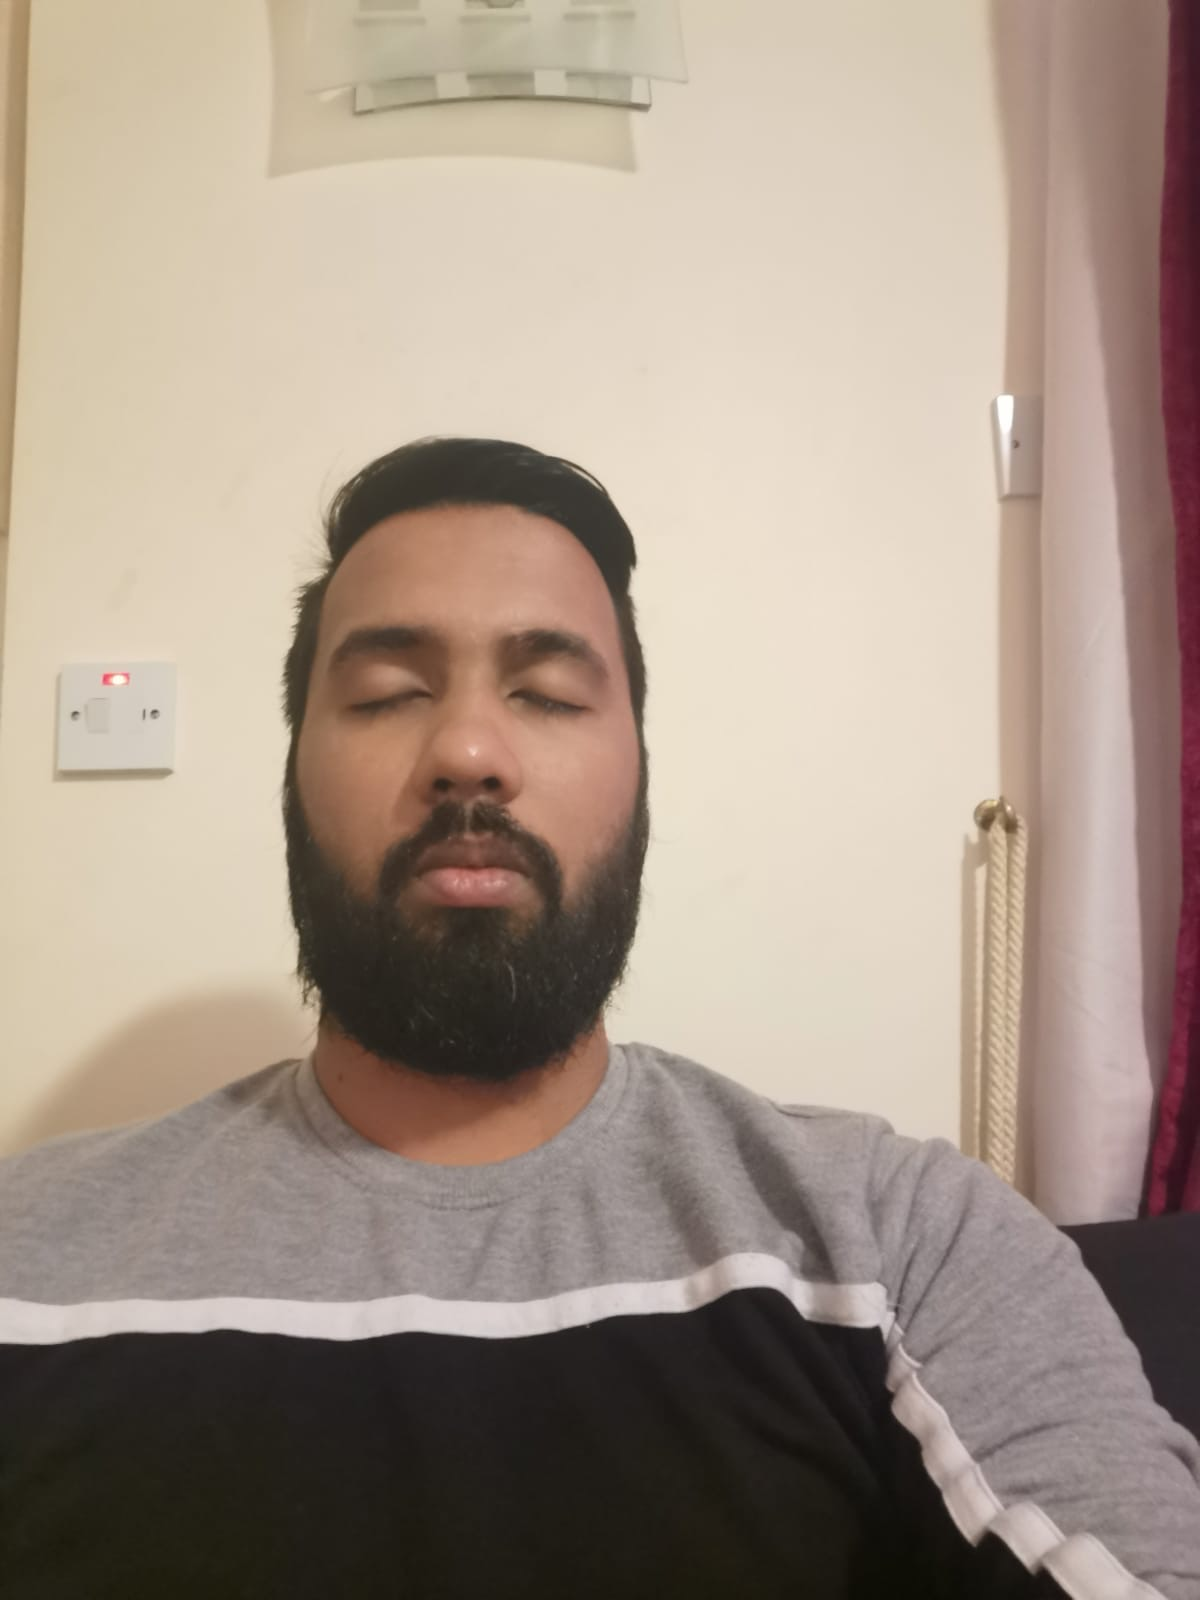Sleeping: (315, 639, 626, 736)
